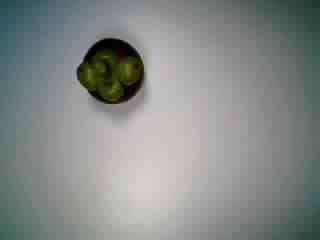mangosteen: (73, 36, 147, 108)
